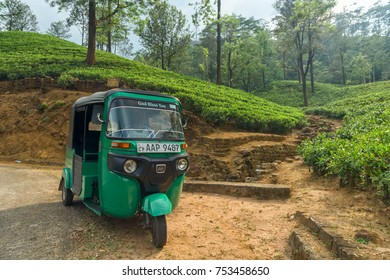threewheel: (58, 88, 190, 249)
